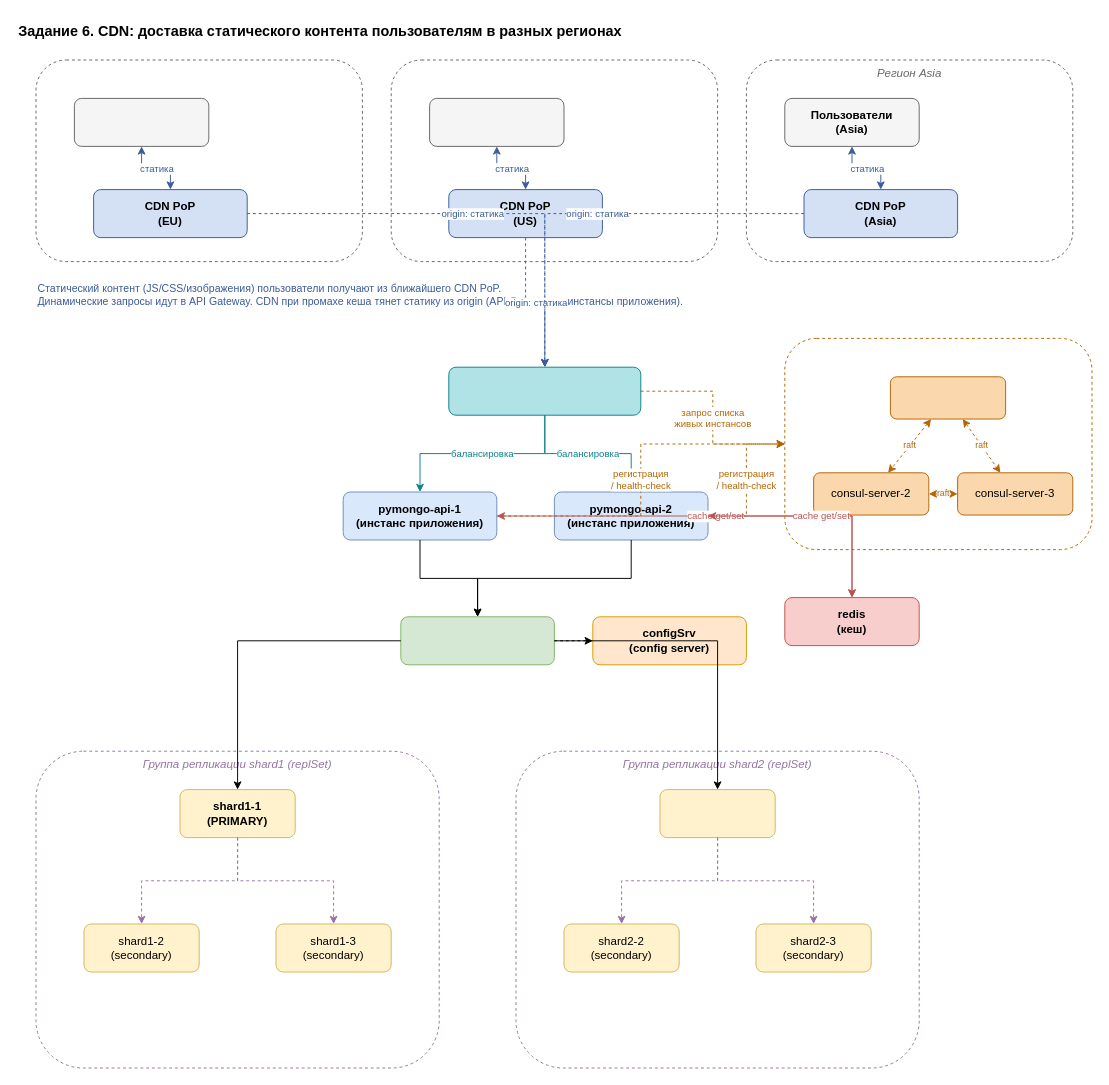
This 1109x1085 diagram has some shape labels left out. The shapes that lost their labels are listed below. From the top down, each one's box as (x1, y1, x2, y2) in pixels, then its label:
(73, 97, 209, 146): Пользователи (EU)
(429, 97, 564, 146): Пользователи (US)
(35, 59, 362, 262): Регион EU
(390, 59, 718, 262): Регион US
(448, 366, 641, 415): API Gateway (балансировка + origin статики)
(889, 376, 1006, 419): consul-server-1
(784, 337, 1092, 550): Consul (Service Discovery)
(400, 616, 554, 665): mongos (роутер)
(659, 789, 775, 838): shard2-1 (PRIMARY)
